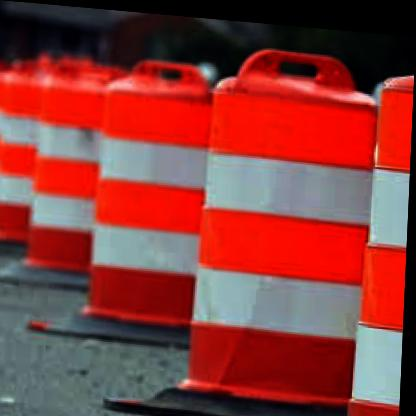obstacle: (175, 48, 378, 413)
